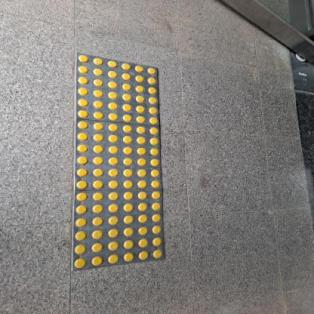Podoctatil: (69, 48, 171, 274)
